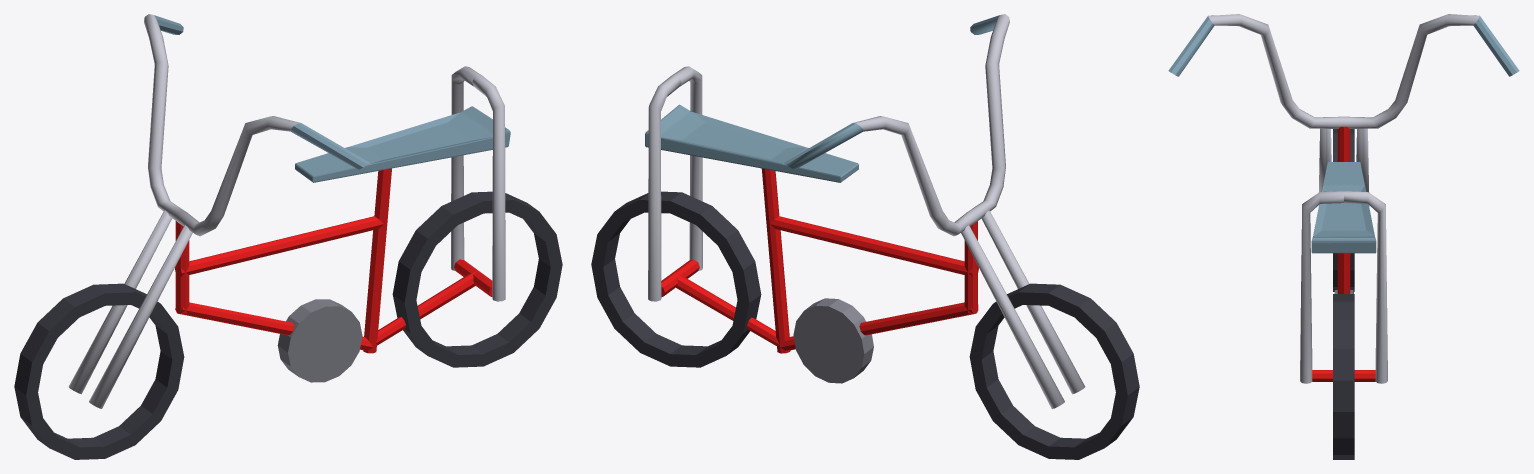
File: bicycle.fbx
3 renders of one model, left to right at view 1: azimuth 30°, elevation 25°; view 2: azimuth 150°, elevation 25°; view 3: azimuth 270°, elevation 25°, orthographic. The views are drawn at different scales.
Parts seen in each view (by area): view 1: Handlebars.001, Wheel, Wheel.001, Frame, Cube, Pedal, Frame.001; view 2: Handlebars.001, Wheel, Wheel.001, Frame, Cube, Pedal, Frame.001; view 3: Handlebars.001, Frame.001, Cube, Wheel.001, Frame, Wheel.
Boxes of the visible parts, left/top/right/bottom form: Handlebars.001: left=68, top=14, right=369, bottom=408; Wheel: left=14, top=283, right=184, bottom=459; Wheel.001: left=392, top=191, right=562, bottom=367; Frame: left=175, top=168, right=492, bottom=353; Cube: left=295, top=106, right=510, bottom=182; Pedal: left=277, top=299, right=362, bottom=382; Frame.001: left=451, top=66, right=505, bottom=301; Handlebars.001: left=784, top=14, right=1085, bottom=408; Wheel: left=969, top=283, right=1139, bottom=459; Wheel.001: left=591, top=191, right=761, bottom=367; Frame: left=661, top=168, right=978, bottom=353; Cube: left=645, top=104, right=858, bottom=182; Pedal: left=793, top=298, right=873, bottom=383; Frame.001: left=648, top=66, right=702, bottom=301; Handlebars.001: left=1168, top=14, right=1519, bottom=206; Frame.001: left=1300, top=191, right=1387, bottom=383; Cube: left=1311, top=162, right=1376, bottom=253; Wheel.001: left=1333, top=294, right=1354, bottom=459; Frame: left=1312, top=126, right=1375, bottom=381; Wheel: left=1333, top=129, right=1354, bottom=291.
Size of the model in its own units: 2.22 by 1.41 by 1.38.
Materials: 4 (4 with a texture image).
